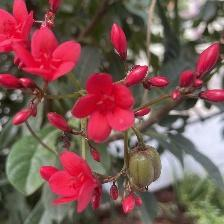jatropha: (73, 72, 137, 144), (13, 25, 85, 84), (47, 150, 101, 214), (1, 1, 38, 51)
